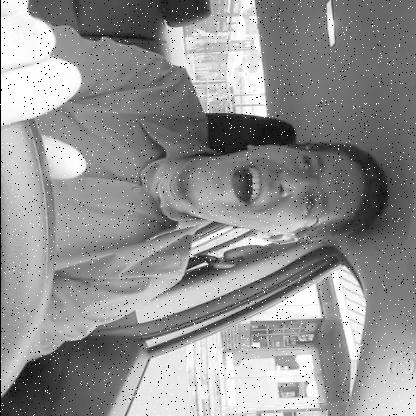no_seatbelt: (32, 108, 400, 276)
